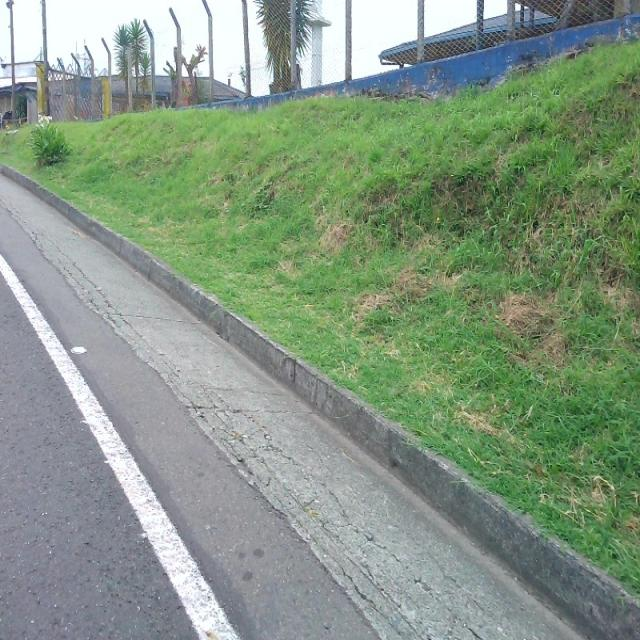DITCH: (1, 149, 638, 638), (1, 152, 638, 638), (1, 165, 638, 638)
